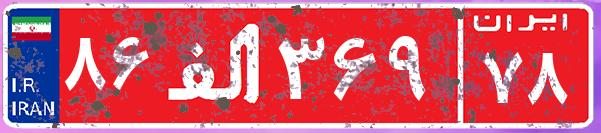3: (273, 28, 330, 110)
6: (330, 28, 385, 110), (110, 28, 158, 105)
7: (475, 38, 525, 113)
8: (57, 26, 110, 107), (525, 38, 570, 115)
9: (385, 28, 445, 110)
الف: (158, 15, 273, 115)
